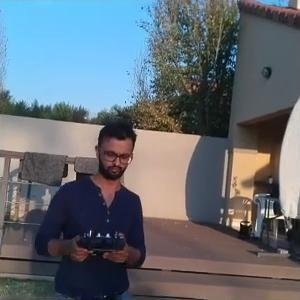follow: (28, 113, 150, 298)
